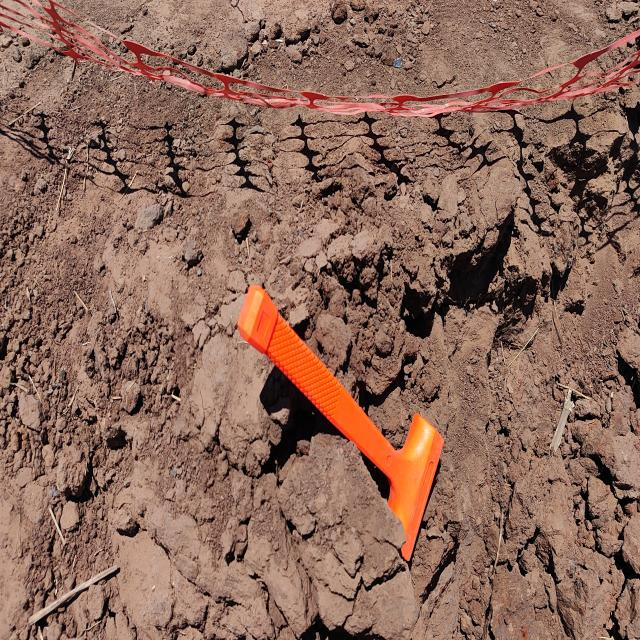Orange_hammer: (238, 282, 446, 563)
